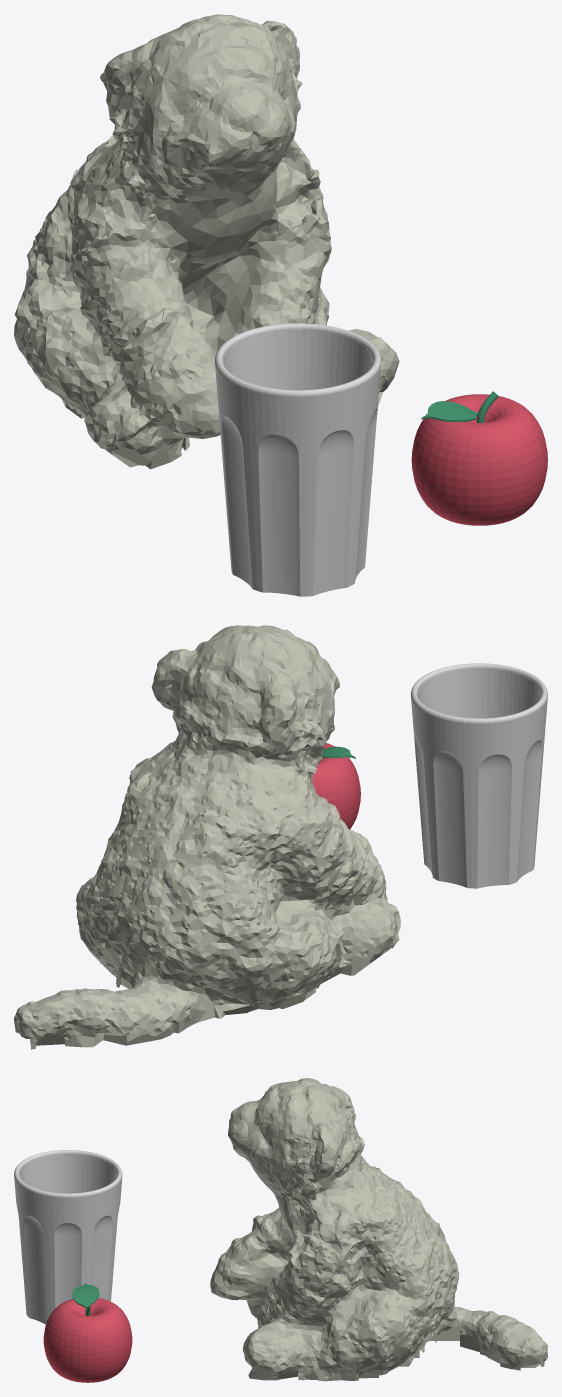
Rendered from tinker_hobbes.glb.
3 views of the same model, one above another, from view 1: azimuth 30°, elevation 25°; view 2: azimuth 150°, elevation 25°; view 3: azimuth 270°, elevation 25° (orthographic). The views are drawn at different scales.
Visible parts, largest first — view 1: Mesh_Mesh_head_geo.001_lambert2SG.001; view 2: Mesh_Mesh_head_geo.001_lambert2SG.001; view 3: Mesh_Mesh_head_geo.001_lambert2SG.001.
Part boxes in pixels (box(x1,y1,x2,y2)): Mesh_Mesh_head_geo.001_lambert2SG.001: box(14, 14, 547, 596); Mesh_Mesh_head_geo.001_lambert2SG.001: box(14, 625, 547, 1049); Mesh_Mesh_head_geo.001_lambert2SG.001: box(14, 1078, 547, 1382).
Bounding box in the file's own units: 25 × 28.57 × 54.12.
